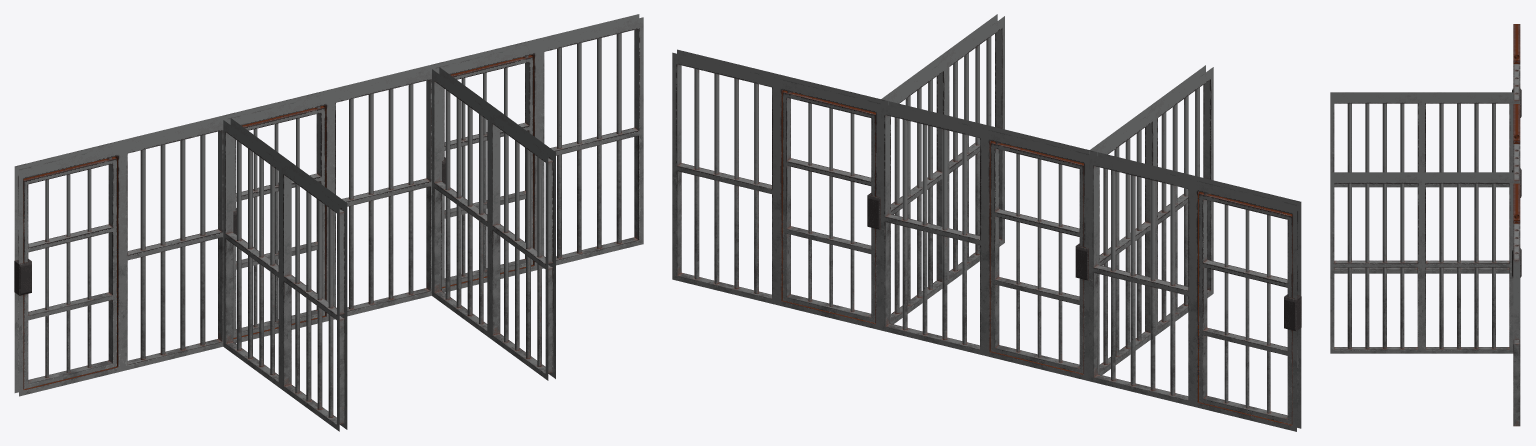
Rendered from cells.glb.
The picture shows the model from 3 angles, left to right: view 1: azimuth 30°, elevation 25°; view 2: azimuth 150°, elevation 25°; view 3: azimuth 270°, elevation 25°; orthographic projection. The views are drawn at different scales.
Visible parts, largest first — view 1: cells-col; view 2: cells-col; view 3: cells-col.
Boxes of the visible parts, bbox=[...] form: cells-col: bbox=[14, 14, 643, 431]; cells-col: bbox=[672, 14, 1301, 431]; cells-col: bbox=[1330, 24, 1521, 426].
Size of the model in its own units: 6.05 by 2.1 by 2.04.
Materials: 1 (1 with a texture image).
